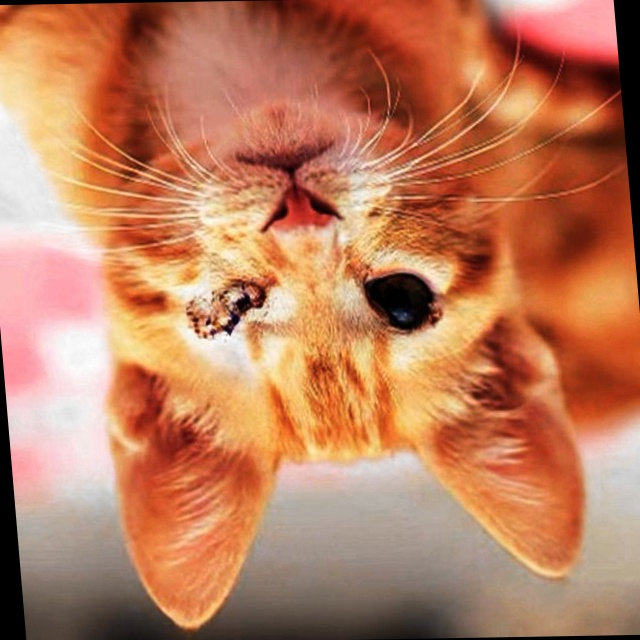eye_infection: (352, 270, 438, 332)
